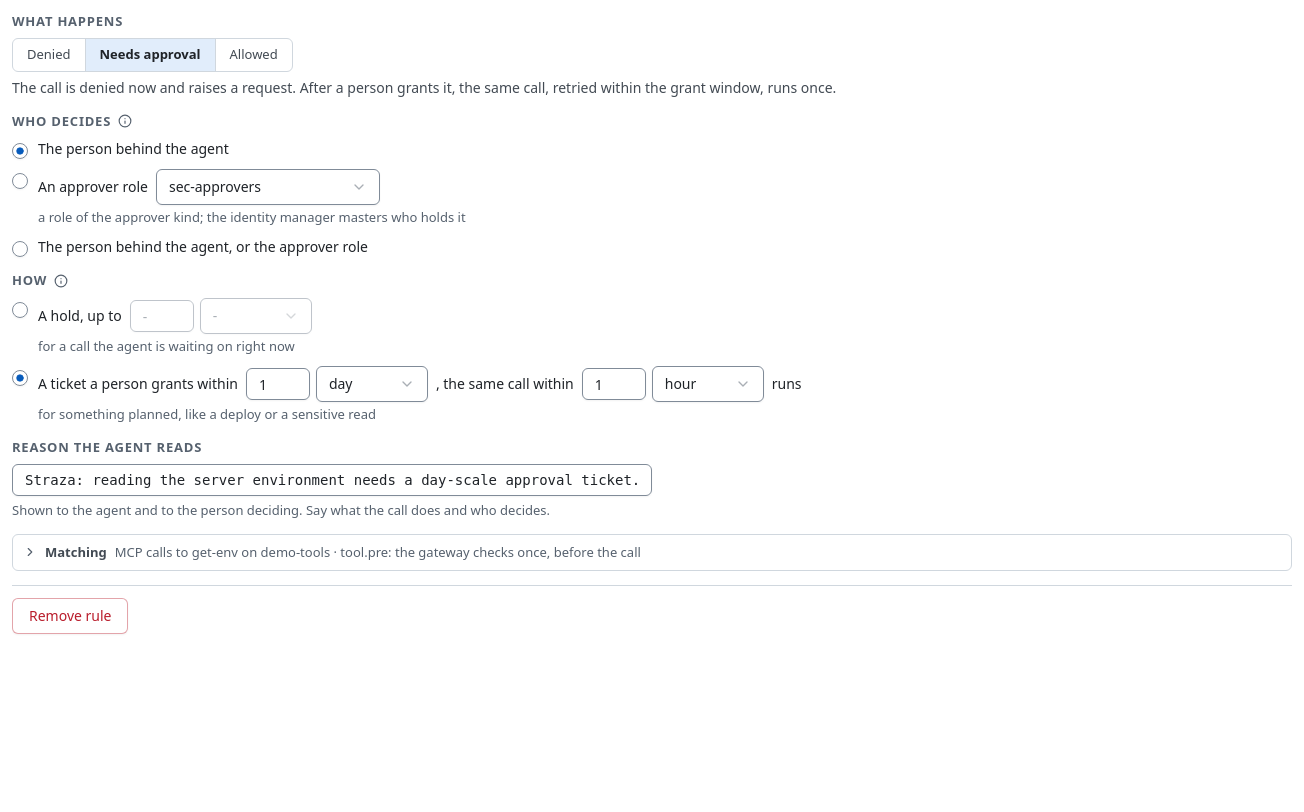
changing what a rule does › drops the approval block on Allowed and puts the reason out of reach
The image size is (1304, 812).
Click the button "Allowed" at (254, 54), box left=216, top=38, right=292, bottom=70
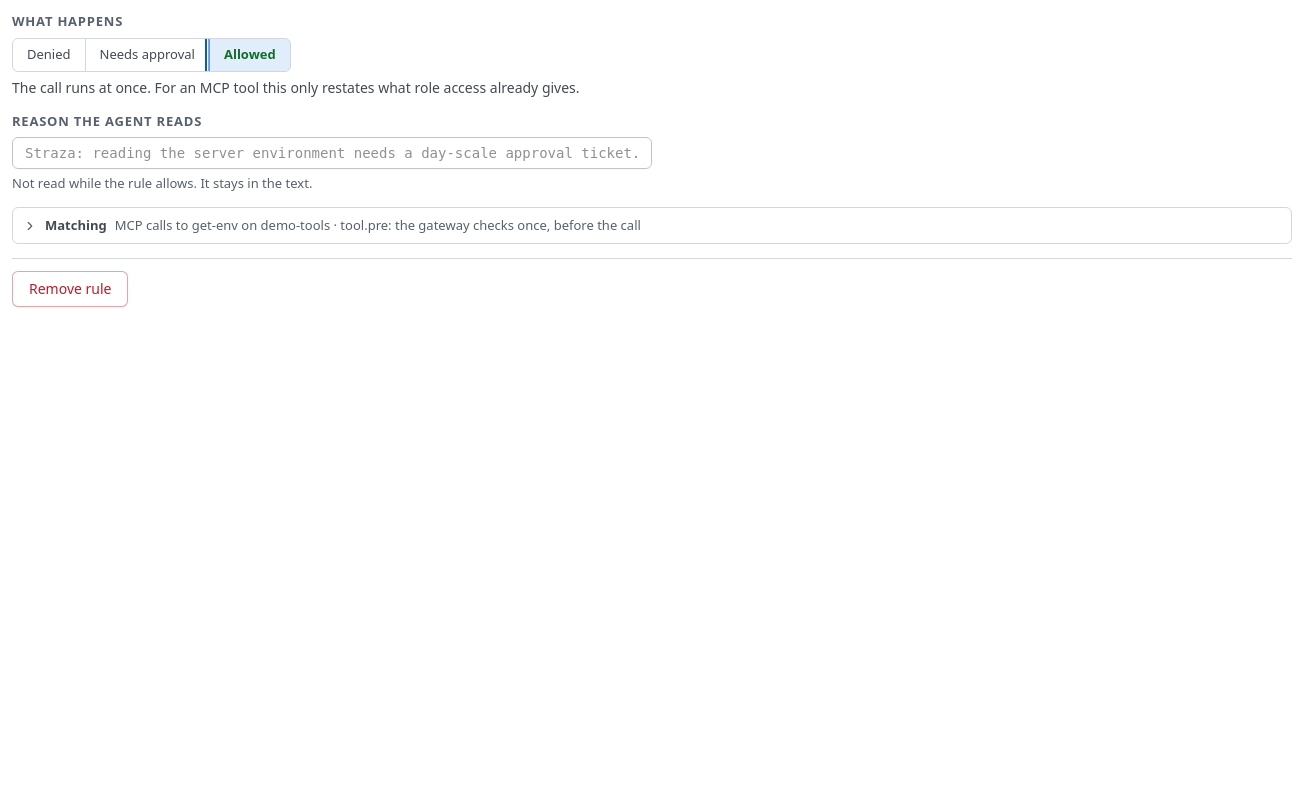
expect the field labelled "Reason the agent reads" is disabled: met, box left=12, top=137, right=652, bottom=169
expect the text "Not read while the rule allows. It stays in the text." is shown: met, box left=12, top=174, right=312, bottom=192
